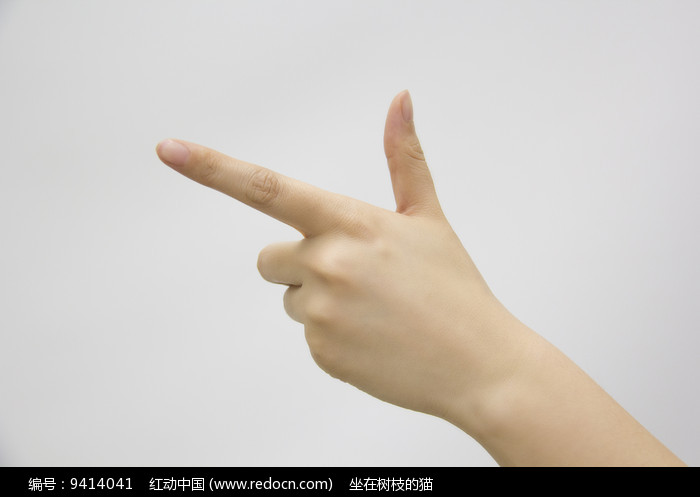no-phone: (134, 73, 567, 438)
